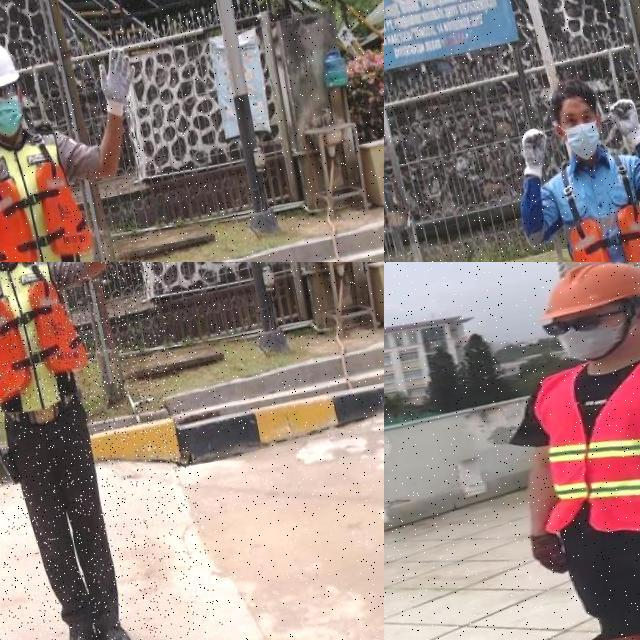boots: (97, 615, 140, 640), (59, 618, 103, 640)
helmet: (532, 262, 640, 323), (0, 33, 23, 97)
vest: (520, 344, 640, 546), (0, 262, 95, 418), (0, 126, 103, 262), (547, 155, 640, 262)
